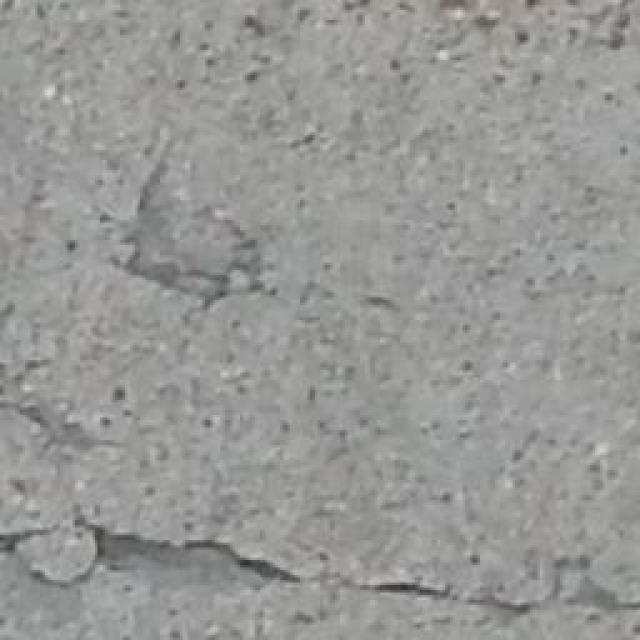concrete-crack: (4, 520, 640, 624)
